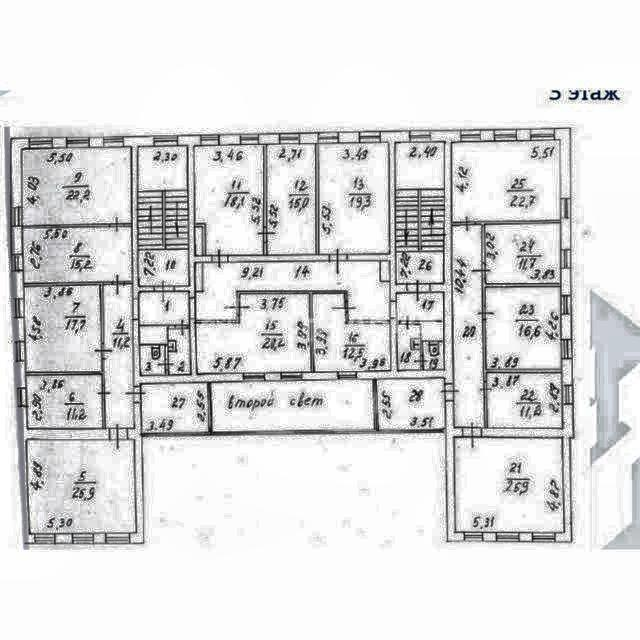room: (195, 261, 390, 321), (26, 438, 136, 534), (455, 437, 564, 531), (196, 293, 311, 374), (451, 140, 562, 222), (22, 147, 132, 225), (211, 380, 375, 432), (318, 143, 389, 255), (194, 145, 264, 255), (138, 148, 189, 286), (24, 286, 101, 374), (396, 142, 444, 283), (451, 226, 484, 428), (23, 225, 133, 283), (486, 287, 561, 369), (313, 293, 390, 372), (267, 144, 315, 254), (103, 284, 135, 428), (485, 224, 560, 283), (486, 373, 562, 428), (26, 375, 103, 428), (377, 378, 445, 430), (141, 383, 209, 434), (140, 293, 189, 324), (397, 293, 443, 319), (168, 329, 190, 375), (397, 325, 420, 369), (141, 345, 165, 374), (423, 341, 444, 369), (195, 227, 204, 256)
